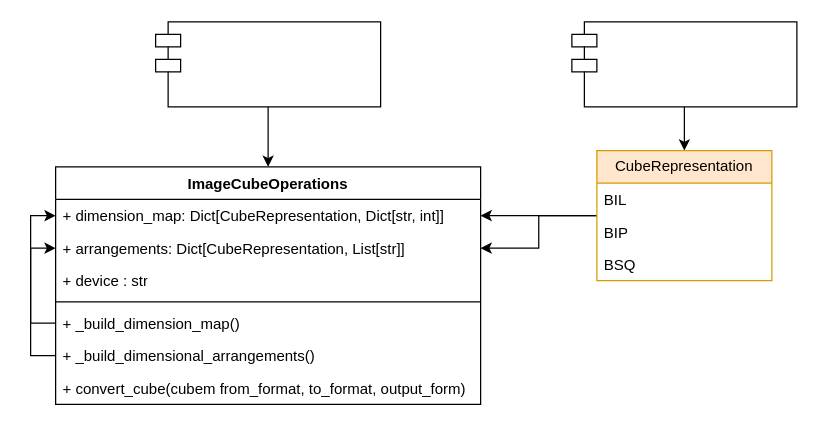
The diagram is 819 pixels wide and 430 high, and some of its shapes have lost their labels. The shapes that lost their labels are listed below. From the top down, each one's centre as x and y in pixels, then its label:
At point 267,64: "utils. image_transformation. image_cube_operations".
At point 684,64: "models. images. cube_representation".
